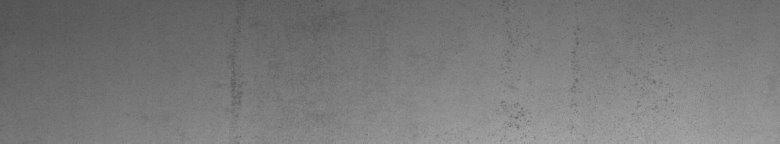ib: (501, 28, 580, 130)
